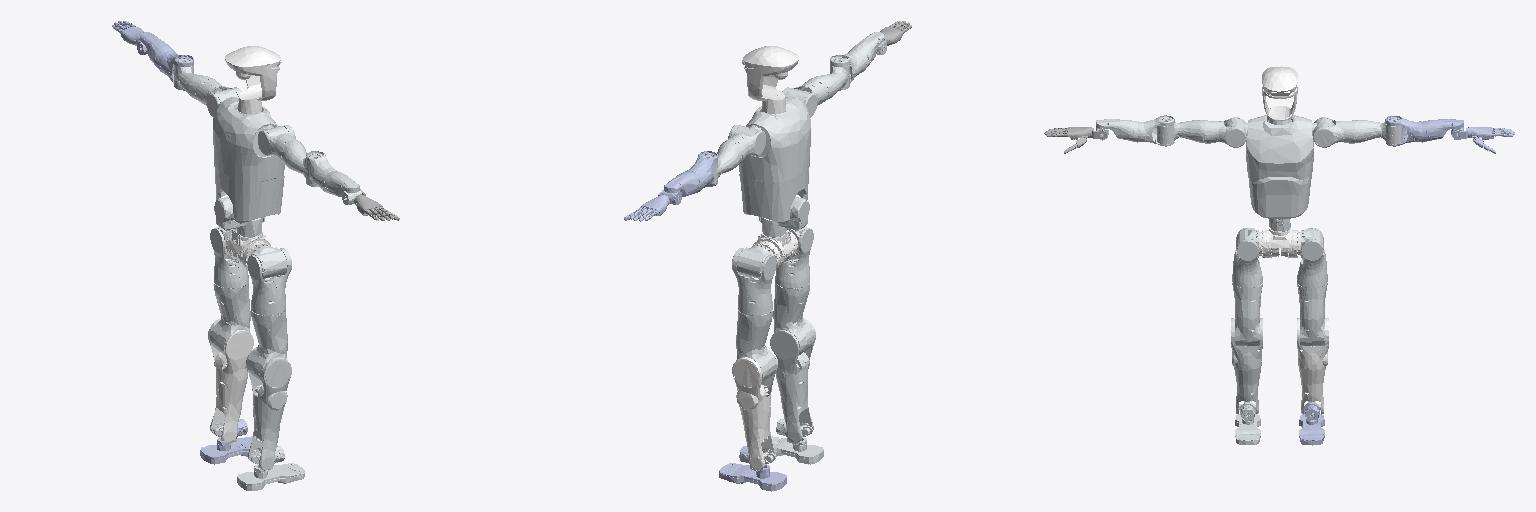
--- Facts derived from the render (not from the file) ---
Views: 3 orthographic renders of the robot side by side, from view 1: azimuth 30°, elevation 25°; view 2: azimuth 150°, elevation 25°; view 3: azimuth 270°, elevation 25°.
Robot: T170-V2.1-A0-URDF-A — 31 links, 30 joints (30 revolute); root link BASE_S; default pose: all joints at 0.
Visible links, largest first — view 1: WAIST_P_S, R_KNEE_P_S, L_KNEE_P_S, NECK_Y_S, R_HIP_Y_S, L_HIP_Y_S, R_HIP_R_S, R_ANKLE_R_S, L_HIP_R_S, L_ANKLE_R_S, WAIST_Y_S, BASE_S (+10 smaller); view 2: WAIST_P_S, L_KNEE_P_S, R_KNEE_P_S, NECK_Y_S, L_HIP_Y_S, R_HIP_Y_S, L_HIP_R_S, L_ANKLE_R_S, R_HIP_R_S, R_ANKLE_R_S, WAIST_Y_S, BASE_S (+10 smaller); view 3: WAIST_P_S, L_KNEE_P_S, R_KNEE_P_S, NECK_Y_S, R_HIP_Y_S, L_HIP_Y_S, L_HIP_R_S, R_HIP_R_S, BASE_S, L_SHOULDER_Y_S, L_ANKLE_R_S, R_ANKLE_R_S (+9 smaller).
Boxes of the visible links, x1,y1,x2,y2 form: WAIST_P_S: (213,97,284,223); R_KNEE_P_S: (246,347,291,470); L_KNEE_P_S: (208,318,253,442); NECK_Y_S: (225,46,281,113); R_HIP_Y_S: (247,310,287,382); L_HIP_Y_S: (210,283,250,355); R_HIP_R_S: (247,248,291,315); R_ANKLE_R_S: (237,445,304,490); L_HIP_R_S: (210,228,248,288); L_ANKLE_R_S: (200,419,252,464); WAIST_Y_S: (214,197,264,237); BASE_S: (226,218,270,268); WAIST_P_S: (739,97,810,223); L_KNEE_P_S: (732,347,777,470); R_KNEE_P_S: (770,318,815,442); NECK_Y_S: (742,46,798,114); L_HIP_Y_S: (736,310,776,382); R_HIP_Y_S: (773,283,813,354); L_HIP_R_S: (732,248,776,315); L_ANKLE_R_S: (719,446,786,491); R_HIP_R_S: (775,228,813,288); R_ANKLE_R_S: (771,419,823,464); WAIST_Y_S: (759,197,809,237); BASE_S: (752,218,797,268); WAIST_P_S: (1246,115,1313,218); L_KNEE_P_S: (1297,318,1328,414); R_KNEE_P_S: (1231,318,1262,414); NECK_Y_S: (1262,66,1297,124); R_HIP_Y_S: (1232,282,1262,346); L_HIP_Y_S: (1297,283,1327,346); L_HIP_R_S: (1297,228,1327,287); R_HIP_R_S: (1232,228,1262,287); BASE_S: (1259,227,1300,257); L_SHOULDER_Y_S: (1355,119,1402,144); L_ANKLE_R_S: (1299,402,1324,445); R_ANKLE_R_S: (1235,402,1260,444).
Bounding box of the posed robot: 0.2739 × 2.02 × 1.72 m (x, y, z).
Meshes: 31 distinct files referenced, 31 mesh visuals loaded (31 binary STL).

URDF robot description (T170-V2.1-A0-URDF-A):
<?xml version="1.0" encoding="utf-8"?>
<!-- This URDF was automatically created by SolidWorks to URDF Exporter! Originally created by Stephen Brawner ([email redacted]) 
     Commit Version: 1.6.0-4-g7f85cfe  Build Version: 1.6.7995.38578
     For more information, please see http://wiki.ros.org/sw_urdf_exporter -->
<robot
  name="T170-V2.1-A0-URDF-A">
  <link
    name="BASE_S">
    <inertial>
              <origin 
                xyz="-5.5e-05 1e-06 -0.047948" 
                rpy="0 0 0" />
              <mass 
                value="6.323163999999999" />
              <inertia
                ixx="0.031584404006"
                ixy="1.46131e-07"
                ixz="1.5716839e-05"
                iyy="0.020264509017000002"
                iyz="-1.81254e-07"
                izz="0.023353483557999998" />
            </inertial>
    <visual>
      <origin
        xyz="0 0 0"
        rpy="0 0 0" />
      <geometry>
        <mesh
          filename="package://T170-V2.1-A0-URDF-A/meshes/BASE_S.STL" />
      </geometry>
      <material
        name="">
        <color
          rgba="1 1 1 1" />
      </material>
    </visual>
    <collision>
      <origin
        xyz="0 0 0"
        rpy="0 0 0" />
      <geometry>
        <mesh
          filename="package://T170-V2.1-A0-URDF-A/meshes/BASE_S.STL" />
      </geometry>
    </collision>
  </link>
  <link
    name="L_HIP_P_S">
    <inertial>
              <origin 
                xyz="0.012891999999999999 0.041366999999999994 1e-06" 
                rpy="0 0 0" />
              <mass 
                value="1.60224" />
              <inertia
                ixx="0.002350403566"
                ixy="-7.038434699999999e-05"
                ixz="1.8192000000000002e-08"
                iyy="0.0026586781120000002"
                iyz="5.7659e-08"
                izz="0.0023079587030000004" />
            </inertial>
    <visual>
      <origin
        xyz="0 0 0"
        rpy="0 0 0" />
      <geometry>
        <mesh
          filename="package://T170-V2.1-A0-URDF-A/meshes/L_HIP_P_S.STL" />
      </geometry>
      <material
        name="">
        <color
          rgba="0.898039215686275 0.917647058823529 0.929411764705882 1" />
      </material>
    </visual>
    <collision>
      <origin
        xyz="0 0 0"
        rpy="0 0 0" />
      <geometry>
        <mesh
          filename="package://T170-V2.1-A0-URDF-A/meshes/L_HIP_P_S.STL" />
      </geometry>
    </collision>
  </link>
  <joint
    name="L_HIP_P"
    type="revolute">
    <origin
      xyz="0 0.0945 -0.067"
      rpy="0 0 0" />
    <parent
      link="BASE_S" />
    <child
      link="L_HIP_P_S" />
    <axis
      xyz="0 1 0" />
    <limit
      lower="-3.14"
      upper="3.14"
      effort="267"
      velocity="5.76" />
  </joint>
  <link
    name="L_HIP_R_S">
    <inertial>
              <origin 
                xyz="-0.052494 0.001116 -0.135556" 
                rpy="0 0 0" />
              <mass 
                value="2.123182" />
              <inertia
                ixx="0.007651730156"
                ixy="-1.0006102999999999e-05"
                ixz="-0.001027271998"
                iyy="0.008350014863"
                iyz="-0.000150416075"
                izz="0.003346951658" />
            </inertial>
    <visual>
      <origin
        xyz="0 0 0"
        rpy="0 0 0" />
      <geometry>
        <mesh
          filename="package://T170-V2.1-A0-URDF-A/meshes/L_HIP_R_S.STL" />
      </geometry>
      <material
        name="">
        <color
          rgba="0.898039215686275 0.917647058823529 0.929411764705882 1" />
      </material>
    </visual>
    <collision>
      <origin
        xyz="0 0 0"
        rpy="0 0 0" />
      <geometry>
        <mesh
          filename="package://T170-V2.1-A0-URDF-A/meshes/L_HIP_R_S.STL" />
      </geometry>
    </collision>
  </link>
  <joint
    name="L_HIP_R"
    type="revolute">
    <origin
      xyz="0.058 0.044 0"
      rpy="0 0 0" />
    <parent
      link="L_HIP_P_S" />
    <child
      link="L_HIP_R_S" />
    <axis
      xyz="1 0 0" />
    <limit
      lower="-0.261"
      upper="1.744"
      effort="63"
      velocity="8.06" />
  </joint>
  <link
    name="L_HIP_Y_S">
    <inertial>
              <origin 
                xyz="0.001701 0.007194 -0.198857" 
                rpy="0 0 0" />
              <mass 
                value="3.313186" />
              <inertia
                ixx="0.017727672841"
                ixy="-6.456893699999999e-05"
                ixz="-0.000408727743"
                iyy="0.018146293801"
                iyz="-0.00033327960600000004"
                izz="0.006599402896" />
            </inertial>
    <visual>
      <origin
        xyz="0 0 0"
        rpy="0 0 0" />
      <geometry>
        <mesh
          filename="package://T170-V2.1-A0-URDF-A/meshes/L_HIP_Y_S.STL" />
      </geometry>
      <material
        name="">
        <color
          rgba="0.898039215686275 0.917647058823529 0.929411764705882 1" />
      </material>
    </visual>
    <collision>
      <origin
        xyz="0 0 0"
        rpy="0 0 0" />
      <geometry>
        <mesh
          filename="package://T170-V2.1-A0-URDF-A/meshes/L_HIP_Y_S.STL" />
      </geometry>
    </collision>
  </link>
  <joint
    name="L_HIP_Y"
    type="revolute">
    <origin
      xyz="-0.058 0 -0.1972"
      rpy="0 0 0" />
    <parent
      link="L_HIP_R_S" />
    <child
      link="L_HIP_Y_S" />
    <axis
      xyz="0 0 -1" />
    <limit
      lower="-3.14"
      upper="3.14"
      effort="121"
      velocity="6.81" />
  </joint>
  <link
    name="L_KNEE_P_S">
    <inertial>
              <origin 
                xyz="-0.003673 -0.046279 -0.131966" 
                rpy="0 0 0" />
              <mass 
                value="2.872258" />
              <inertia
                ixx="0.030549601555"
                ixy="-0.000306279641"
                ixz="-0.00289882498"
                iyy="0.029134022252"
                iyz="-0.000788990124"
                izz="0.00682755525" />
            </inertial>
    <visual>
      <origin
        xyz="0 0 0"
        rpy="0 0 0" />
      <geometry>
        <mesh
          filename="package://T170-V2.1-A0-URDF-A/meshes/L_KNEE_P_S.STL" />
      </geometry>
      <material
        name="">
        <color
          rgba="1 1 1 1" />
      </material>
    </visual>
    <collision>
      <origin
        xyz="0 0 0"
        rpy="0 0 0" />
      <geometry>
        <mesh
          filename="package://T170-V2.1-A0-URDF-A/meshes/L_KNEE_P_S.STL" />
      </geometry>
    </collision>
  </link>
  <joint
    name="L_KNEE_P"
    type="revolute">
    <origin
      xyz="0 0.057 -0.2228"
      rpy="0 0 0" />
    <parent
      link="L_HIP_Y_S" />
    <child
      link="L_KNEE_P_S" />
    <axis
      xyz="0 1 0" />
    <limit
      lower="-0.83"
      upper="2.3"
      effort="267"
      velocity="5.76" />
  </joint>
  <link
    name="L_ANKLE_P_S">
    <inertial>
              <origin 
                xyz="-0.006450999999999999 -0.006279 0.001685" 
                rpy="0 0 0" />
              <mass 
                value="0.16770400000000002" />
              <inertia
                ixx="7.8854471e-05"
                ixy="4.042862e-06"
                ixz="7.594374e-06"
                iyy="7.3833558e-05"
                iyz="-1.0371300000000002e-06"
                izz="0.000117405804" />
            </inertial>
    <visual>
      <origin
        xyz="0 0 0"
        rpy="0 0 0" />
      <geometry>
        <mesh
          filename="package://T170-V2.1-A0-URDF-A/meshes/L_ANKLE_P_S.STL" />
      </geometry>
      <material
        name="">
        <color
          rgba="0.898039215686275 0.917647058823529 0.929411764705882 1" />
      </material>
    </visual>
    <collision>
      <origin
        xyz="0 0 0"
        rpy="0 0 0" />
      <geometry>
        <mesh
          filename="package://T170-V2.1-A0-URDF-A/meshes/L_ANKLE_P_S.STL" />
      </geometry>
    </collision>
  </link>
  <joint
    name="L_ANKLE_P"
    type="revolute">
    <origin
      xyz="-0.032248 -0.058 -0.36859"
      rpy="0 0 0" />
    <parent
      link="L_KNEE_P_S" />
    <child
      link="L_ANKLE_P_S" />
    <axis
      xyz="0 -1 0" />
    <limit
      lower="-1.57"
      upper="0.314"
      effort="63"
      velocity="8.06" />
  </joint>
  <link
    name="L_ANKLE_R_S">
    <inertial>
              <origin 
                xyz="0.019198 1e-06 -0.066833" 
                rpy="0 0 0" />
              <mass 
                value="2.580485" />
              <inertia
                ixx="0.005012162739"
                ixy="1.99135e-07"
                ixz="-7.7163344e-05"
                iyy="0.014812544968"
                iyz="-2.7766e-08"
                izz="0.013178673303999999" />
            </inertial>
    <visual>
      <origin
        xyz="0 0 0"
        rpy="0 0 0" />
      <geometry>
        <mesh
          filename="package://T170-V2.1-A0-URDF-A/meshes/L_ANKLE_R_S.STL" />
      </geometry>
      <material
        name="">
        <color
          rgba="0.792156862745098 0.819607843137255 0.933333333333333 1" />
      </material>
    </visual>
    <collision>
      <origin
        xyz="0 0 0"
        rpy="0 0 0" />
      <geometry>
        <mesh
          filename="package://T170-V2.1-A0-URDF-A/meshes/L_ANKLE_R_S.STL" />
      </geometry>
    </collision>
  </link>
  <joint
    name="L_ANKLE_R"
    type="revolute">
    <origin
      xyz="0.023 0 0"
      rpy="0 0 0" />
    <parent
      link="L_ANKLE_P_S" />
    <child
      link="L_ANKLE_R_S" />
    <axis
      xyz="1 0 0" />
    <limit
      lower="-0.34"
      upper="0.34"
      effort="23"
      velocity="10.16" />
  </joint>
  <link
    name="R_HIP_P_S">
    <inertial>
              <origin 
                xyz="0.012246 -0.041162 1e-06" 
                rpy="0 0 0" />
              <mass 
                value="1.486767" />
              <inertia
                ixx="0.0022559458080000003"
                ixy="6.766130000000001e-05"
                ixz="2.0781299999999998e-07"
                iyy="0.002562349659"
                iyz="-5.7184e-08"
                izz="0.0022107800499999997" />
            </inertial>
    <visual>
      <origin
        xyz="0 0 0"
        rpy="0 0 0" />
      <geometry>
        <mesh
          filename="package://T170-V2.1-A0-URDF-A/meshes/R_HIP_P_S.STL" />
      </geometry>
      <material
        name="">
        <color
          rgba="0.898039215686275 0.917647058823529 0.929411764705882 1" />
      </material>
    </visual>
    <collision>
      <origin
        xyz="0 0 0"
        rpy="0 0 0" />
      <geometry>
        <mesh
          filename="package://T170-V2.1-A0-URDF-A/meshes/R_HIP_P_S.STL" />
      </geometry>
    </collision>
  </link>
  <joint
    name="R_HIP_P"
    type="revolute">
    <origin
      xyz="0 -0.0945 -0.067"
      rpy="0 0 0" />
    <parent
      link="BASE_S" />
    <child
      link="R_HIP_P_S" />
    <axis
      xyz="0 -1 0" />
    <limit
      lower="-3.14"
      upper="3.14"
      effort="267"
      velocity="5.76" />
  </joint>
  <link
    name="R_HIP_R_S">
    <inertial>
              <origin 
                xyz="-0.048002 -0.0020259999999999996 -0.117145" 
                rpy="0 0 0" />
              <mass 
                value="1.169327" />
              <inertia
                ixx="0.006103026520999999"
                ixy="-6.72525e-07"
                ixz="-0.0008121214109999999"
                iyy="0.006751084945"
                iyz="0.000106751489"
                izz="0.002707830301" />
            </inertial>
    <visual>
      <origin
        xyz="0 0 0"
        rpy="0 0 0" />
      <geometry>
        <mesh
          filename="package://T170-V2.1-A0-URDF-A/meshes/R_HIP_R_S.STL" />
      </geometry>
      <material
        name="">
        <color
          rgba="0.898039215686275 0.917647058823529 0.929411764705882 1" />
      </material>
    </visual>
    <collision>
      <origin
        xyz="0 0 0"
        rpy="0 0 0" />
      <geometry>
        <mesh
          filename="package://T170-V2.1-A0-URDF-A/meshes/R_HIP_R_S.STL" />
      </geometry>
    </collision>
  </link>
  <joint
    name="R_HIP_R"
    type="revolute">
    <origin
      xyz="0.058 -0.044 0"
      rpy="0 0 0" />
    <parent
      link="R_HIP_P_S" />
    <child
      link="R_HIP_R_S" />
    <axis
      xyz="1 0 0" />
    <limit
      lower="-1.744"
      upper="0.261"
      effort="63"
      velocity="8.06" />
  </joint>
  <link
    name="R_HIP_Y_S">
    <inertial>
              <origin 
                xyz="0.0018759999999999998 -0.007356 -0.19640000000000002" 
                rpy="0 0 0" />
              <mass 
                value="3.005683" />
              <inertia
                ixx="0.01704320174"
                ixy="6.32323e-05"
                ixz="-0.000395479263"
                iyy="0.017448574874000002"
                iyz="0.00031955861"
                izz="0.006105217643" />
            </inertial>
    <visual>
      <origin
        xyz="0 0 0"
        rpy="0 0 0" />
      <geometry>
        <mesh
          filename="package://T170-V2.1-A0-URDF-A/meshes/R_HIP_Y_S.STL" />
      </geometry>
      <material
        name="">
        <color
          rgba="0.898039215686275 0.917647058823529 0.929411764705882 1" />
      </material>
    </visual>
    <collision>
      <origin
        xyz="0 0 0"
        rpy="0 0 0" />
      <geometry>
        <mesh
          filename="package://T170-V2.1-A0-URDF-A/meshes/R_HIP_Y_S.STL" />
      </geometry>
    </collision>
  </link>
  <joint
    name="R_HIP_Y"
    type="revolute">
    <origin
      xyz="-0.058 0 -0.1972"
      rpy="0 0 0" />
    <parent
      link="R_HIP_R_S" />
    <child
      link="R_HIP_Y_S" />
    <axis
      xyz="0 0 -1" />
    <limit
      lower="-3.14"
      upper="3.14"
      effort="121"
      velocity="6.81" />
  </joint>
  <link
    name="R_KNEE_P_S">
    <inertial>
              <origin 
                xyz="-0.001129 0.044916 -0.124637" 
                rpy="0 0 0" />
              <mass 
                value="2.653417" />
              <inertia
                ixx="0.027141727359"
                ixy="0.000151239842"
                ixz="-0.002091489639"
                iyy="0.025742319535"
                iyz="0.000493533685"
                izz="0.006436295266" />
            </inertial>
    <visual>
      <origin
        xyz="0 0 0"
        rpy="0 0 0" />
      <geometry>
        <mesh
          filename="package://T170-V2.1-A0-URDF-A/meshes/R_KNEE_P_S.STL" />
      </geometry>
      <material
        name="">
        <color
          rgba="0.898039215686275 0.917647058823529 0.929411764705882 1" />
      </material>
    </visual>
    <collision>
      <origin
        xyz="0 0 0"
        rpy="0 0 0" />
      <geometry>
        <mesh
          filename="package://T170-V2.1-A0-URDF-A/meshes/R_KNEE_P_S.STL" />
      </geometry>
    </collision>
  </link>
  <joint
    name="R_KNEE_P"
    type="revolute">
    <origin
      xyz="0 -0.057 -0.2228"
      rpy="0 0 0" />
    <parent
      link="R_HIP_Y_S" />
    <child
      link="R_KNEE_P_S" />
    <axis
      xyz="0 -1 0" />
    <limit
      lower="-2.3"
      upper="0.83"
      effort="267"
      velocity="5.76" />
  </joint>
  <link
    name="R_ANKLE_P_S">
    <inertial>
              <origin 
                xyz="-0.005285 0.0029 0.00138" 
                rpy="0 0 0" />
              <mass 
                value="0.20469900000000002" />
              <inertia
                ixx="0.000106648193"
                ixy="-3.86891e-07"
                ixz="7.923754e-06"
                iyy="7.7879228e-05"
                iyz="8.2406e-08"
                izz="0.00014637474900000002" />
            </inertial>
    <visual>
      <origin
        xyz="0 0 0"
        rpy="0 0 0" />
      <geometry>
        <mesh
          filename="package://T170-V2.1-A0-URDF-A/meshes/R_ANKLE_P_S.STL" />
      </geometry>
      <material
        name="">
        <color
          rgba="0.898039215686275 0.917647058823529 0.929411764705882 1" />
      </material>
    </visual>
    <collision>
      <origin
        xyz="0 0 0"
        rpy="0 0 0" />
      <geometry>
        <mesh
          filename="package://T170-V2.1-A0-URDF-A/meshes/R_ANKLE_P_S.STL" />
      </geometry>
    </collision>
  </link>
  <joint
    name="R_ANKLE_P"
    type="revolute">
    <origin
      xyz="-0.032248 0.058 -0.36859"
      rpy="0 0 0" />
    <parent
      link="R_KNEE_P_S" />
    <child
      link="R_ANKLE_P_S" />
    <axis
      xyz="0 1 0" />
    <limit
      lower="-0.314"
      upper="1.57"
      effort="63"
      velocity="8.06" />
  </joint>
  <link
    name="R_ANKLE_R_S">
    <inertial>
              <origin 
                xyz="0.019038 -1e-06 -0.067145" 
                rpy="0 0 0" />
              <mass 
                value="2.573362" />
              <inertia
                ixx="0.004951495021"
                ixy="-2.06578e-07"
                ixz="-6.3314489e-05"
                iyy="0.014758093406"
                iyz="2.9452e-08"
                izz="0.013181001606000001" />
            </inertial>
    <visual>
      <origin
        xyz="0 0 0"
        rpy="0 0 0" />
      <geometry>
        <mesh
          filename="package://T170-V2.1-A0-URDF-A/meshes/R_ANKLE_R_S.STL" />
      </geometry>
      <material
        name="">
        <color
          rgba="0.898039215686275 0.917647058823529 0.929411764705882 1" />
      </material>
    </visual>
    <collision>
      <origin
        xyz="0 0 0"
        rpy="0 0 0" />
      <geometry>
        <mesh
          filename="package://T170-V2.1-A0-URDF-A/meshes/R_ANKLE_R_S.STL" />
      </geometry>
    </collision>
  </link>
  <joint
    name="R_ANKLE_R"
    type="revolute">
    <origin
      xyz="0.023 0 0"
      rpy="0 0 0" />
    <parent
      link="R_ANKLE_P_S" />
    <child
      link="R_ANKLE_R_S" />
    <axis
      xyz="1 0 0" />
    <limit
      lower="-0.34"
      upper="0.34"
      effort="23"
      velocity="10.16" />
  </joint>
  <link
    name="WAIST_Y_S">
    <inertial>
              <origin 
                xyz="-0.070117 0.0 0.109774" 
                rpy="0 0 0" />
              <mass 
                value="1.49971" />
              <inertia
                ixx="0.002892639151"
                ixy="-6.4603e-08"
                ixz="0.0011632690249999999"
                iyy="0.005042794342"
                iyz="1.3865e-08"
                izz="0.003666403193" />
            </inertial>
    <visual>
      <origin
        xyz="0 0 0"
        rpy="0 0 0" />
      <geometry>
        <mesh
          filename="package://T170-V2.1-A0-URDF-A/meshes/WAIST_Y_S.STL" />
      </geometry>
      <material
        name="">
        <color
          rgba="0.898039215686275 0.917647058823529 0.929411764705882 1" />
      </material>
    </visual>
    <collision>
      <origin
        xyz="0 0 0"
        rpy="0 0 0" />
      <geometry>
        <mesh
          filename="package://T170-V2.1-A0-URDF-A/meshes/WAIST_Y_S.STL" />
      </geometry>
    </collision>
  </link>
  <joint
    name="WAIST_Y"
    type="revolute">
    <origin
      xyz="0 0 0"
      rpy="0 0 0" />
    <parent
      link="BASE_S" />
    <child
      link="WAIST_Y_S" />
    <axis
      xyz="0 0 -1" />
    <limit
      lower="-3.14"
      upper="3.14"
      effort="63"
      velocity="8.06" />
  </joint>
  <link
    name="WAIST_R_S">
    <inertial>
              <origin 
                xyz="0.047638 0.0060609999999999995 0.0" 
                rpy="0 0 0" />
              <mass 
                value="1.3648900000000002" />
              <inertia
                ixx="0.0013838946489999999"
                ixy="-1.4820964e-05"
                ixz="1.2329e-08"
                iyy="0.001586091616"
                iyz="6.57485e-07"
                izz="0.001453676082" />
            </inertial>
    <visual>
      <origin
        xyz="0 0 0"
        rpy="0 0 0" />
      <geometry>
        <mesh
          filename="package://T170-V2.1-A0-URDF-A/meshes/WAIST_R_S.STL" />
      </geometry>
      <material
        name="">
        <color
          rgba="0.898039215686275 0.917647058823529 0.929411764705882 1" />
      </material>
    </visual>
    <collision>
      <origin
        xyz="0 0 0"
        rpy="0 0 0" />
      <geometry>
        <mesh
          filename="package://T170-V2.1-A0-URDF-A/meshes/WAIST_R_S.STL" />
      </geometry>
    </collision>
  </link>
  <joint
    name="WAIST_R"
    type="revolute">
    <origin
      xyz="-0.0495 0 0.127"
      rpy="0 0 0" />
    <parent
      link="WAIST_Y_S" />
    <child
      link="WAIST_R_S" />
    <axis
      xyz="1 0 0" />
    <limit
      lower="-0.61"
      upper="0.61"
      effort="63"
      velocity="8.06" />
  </joint>
  <link
    name="WAIST_P_S">
    <inertial>
              <origin 
                xyz="0.00211 -0.046560000000000004 0.245727" 
                rpy="0 0 0" />
              <mass 
                value="11.080885" />
              <inertia
                ixx="0.11949464686200001"
                ixy="-5.1488261e-05"
                ixz="0.0020396562460000003"
                iyy="0.08538231980699999"
                iyz="2.4585865000000002e-05"
                izz="0.065471635027" />
            </inertial>
    <visual>
      <origin
        xyz="0 0 0"
        rpy="0 0 0" />
      <geometry>
        <mesh
          filename="package://T170-V2.1-A0-URDF-A/meshes/WAIST_P_S.STL" />
      </geometry>
      <material
        name="">
        <color
          rgba="0.898039215686275 0.917647058823529 0.929411764705882 1" />
      </material>
    </visual>
    <collision>
      <origin
        xyz="0 0 0"
        rpy="0 0 0" />
      <geometry>
        <mesh
          filename="package://T170-V2.1-A0-URDF-A/meshes/WAIST_P_S.STL" />
      </geometry>
    </collision>
  </link>
  <joint
    name="WAIST_P"
    type="revolute">
    <origin
      xyz="0.0495 0.0465 0"
      rpy="0 0 0" />
    <parent
      link="WAIST_R_S" />
    <child
      link="WAIST_P_S" />
    <axis
      xyz="0 1 0" />
    <limit
      lower="-0.244"
      upper="0.523"
      effort="63"
      velocity="8.06" />
  </joint>
  <link
    name="L_SHOULDER_P_S">
    <inertial>
              <origin 
                xyz="0.011526 0.059677999999999995 0.0" 
                rpy="0 0 0" />
              <mass 
                value="1.444881" />
              <inertia
                ixx="0.001949609421"
                ixy="-9.1641714e-05"
                ixz="3.02e-09"
                iyy="0.0015971993259999999"
                iyz="2.784e-09"
                izz="0.001979001997" />
            </inertial>
    <visual>
      <origin
        xyz="0 0 0"
        rpy="0 0 0" />
      <geometry>
        <mesh
          filename="package://T170-V2.1-A0-URDF-A/meshes/L_SHOULDER_P_S.STL" />
      </geometry>
      <material
        name="">
        <color
          rgba="0.898039215686275 0.917647058823529 0.929411764705882 1" />
      </material>
    </visual>
    <collision>
      <origin
        xyz="0 0 0"
        rpy="0 0 0" />
      <geometry>
        <mesh
          filename="package://T170-V2.1-A0-URDF-A/meshes/L_SHOULDER_P_S.STL" />
      </geometry>
    </collision>
  </link>
  <joint
    name="L_SHOULDER_P"
    type="revolute">
    <origin
      xyz="0.0005 0.0775 0.336"
      rpy="0 0 0" />
    <parent
      link="WAIST_P_S" />
    <child
      link="L_SHOULDER_P_S" />
    <axis
      xyz="0 1 0" />
    <limit
      lower="-3.14"
      upper="3.14"
      effort="63"
      velocity="8.06" />
  </joint>
  <link
    name="L_SHOULDER_R_S">
    <inertial>
              <origin 
                xyz="-0.050103 0.088587 0.000207" 
                rpy="0 0 0" />
              <mass 
                value="1.014451" />
              <inertia
                ixx="0.002349561045"
                ixy="0.000320579472"
                ixz="1.414894e-06"
                iyy="0.0011315652760000002"
                iyz="1.6244966e-05"
                izz="0.002633113913" />
            </inertial>
    <visual>
      <origin
        xyz="0 0 0"
        rpy="0 0 0" />
      <geometry>
        <mesh
          filename="package://T170-V2.1-A0-URDF-A/meshes/L_SHOULDER_R_S.STL" />
      </geometry>
      <material
        name="">
        <color
          rgba="0.898039215686275 0.917647058823529 0.929411764705882 1" />
      </material>
    </visual>
    <collision>
      <origin
        xyz="0 0 0"
        rpy="0 0 0" />
      <geometry>
        <mesh
          filename="package://T170-V2.1-A0-URDF-A/meshes/L_SHOULDER_R_S.STL" />
      </geometry>
    </collision>
  </link>
  <joint
    name="L_SHOULDER_R"
    type="revolute">
    <origin
      xyz="0.054 0.066 0"
      rpy="0 0 0" />
    <parent
      link="L_SHOULDER_P_S" />
    <child
      link="L_SHOULDER_R_S" />
    <axis
      xyz="1 0 0" />
    <limit
      lower="-1.57"
      upper="1.57"
      effort="63"
      velocity="8.06" />
  </joint>
  <link
    name="L_SHOULDER_Y_S">
    <inertial>
              <origin 
                xyz="-0.002242 0.128183 0.013930999999999999" 
                rpy="0 0 0" />
              <mass 
                value="1.09809" />
              <inertia
                ixx="0.0043556596480000005"
                ixy="-0.00014642065100000003"
                ixz="-2.0792412e-05"
                iyy="0.0010249878449999999"
                iyz="-0.00015515220499999997"
                izz="0.004159562748" />
            </inertial>
    <visual>
      <origin
        xyz="0 0 0"
        rpy="0 0 0" />
      <geometry>
        <mesh
          filename="package://T170-V2.1-A0-URDF-A/meshes/L_SHOULDER_Y_S.STL" />
      </geometry>
      <material
        name="">
        <color
          rgba="0.898039215686275 0.917647058823529 0.929411764705882 1" />
      </material>
    </visual>
    <collision>
      <origin
        xyz="0 0 0"
        rpy="0 0 0" />
      <geometry>
        <mesh
          filename="package://T170-V2.1-A0-URDF-A/meshes/L_SHOULDER_Y_S.STL" />
      </geometry>
    </collision>
  </link>
  <joint
    name="L_SHOULDER_Y"
    type="revolute">
    <origin
      xyz="-0.054 0.1395 0"
      rpy="0 0 0" />
    <parent
      link="L_SHOULDER_R_S" />
    <child
      link="L_SHOULDER_Y_S" />
    <axis
      xyz="0 1 0" />
    <limit
      lower="-3.14"
      upper="3.14"
      effort="42"
      velocity="8.59" />
  </joint>
  <link
    name="L_ELBOW_Y_S">
    <inertial>
              <origin 
                xyz="-0.000772 0.079344 -0.047655" 
                rpy="0 0 0" />
              <mass 
                value="0.71509" />
              <inertia
                ixx="0.0015319294410000002"
                ixy="-2.9833332999999998e-05"
                ixz="-1.601666e-06"
                iyy="0.0008379935259999999"
                iyz="0.00011718606699999999"
                izz="0.001338291607" />
            </inertial>
    <visual>
      <origin
        xyz="0 0 0"
        rpy="0 0 0" />
      <geometry>
        <mesh
          filename="package://T170-V2.1-A0-URDF-A/meshes/L_ELBOW_Y_S.STL" />
      </geometry>
      <material
        name="">
        <color
          rgba="0.792156862745098 0.819607843137255 0.933333333333333 1" />
      </material>
    </visual>
    <collision>
      <origin
        xyz="0 0 0"
        rpy="0 0 0" />
      <geometry>
        <mesh
          filename="package://T170-V2.1-A0-URDF-A/meshes/L_ELBOW_Y_S.STL" />
      </geometry>
    </collision>
  </link>
  <joint
    name="L_ELBOW_Y"
    type="revolute">
    <origin
      xyz="0 0.1605 0.051"
      rpy="0 0 0" />
    <parent
      link="L_SHOULDER_Y_S" />
    <child
      link="L_ELBOW_Y_S" />
    <axis
      xyz="0 0 1" />
    <limit
      lower="-2.4"
      upper="0.87"
      effort="42"
      velocity="8.59" />
  </joint>
  <link
    name="L_WRIST_P_S">
    <inertial>
              <origin 
                xyz="-2.3e-05 0.049845 0.012820999999999999" 
                rpy="0 0 0" />
              <mass 
                value="0.668794" />
              <inertia
                ixx="0.001475487306"
                ixy="2.778478e-06"
                ixz="3.84337e-07"
                iyy="0.000652686375"
                iyz="-0.00035242826400000004"
                izz="0.0012790168840000002" />
            </inertial>
    <visual>
      <origin
        xyz="0 0 0"
        rpy="0 0 0" />
      <geometry>
        <mesh
          filename="package://T170-V2.1-A0-URDF-A/meshes/L_WRIST_P_S.STL" />
      </geometry>
      <material
        name="">
        <color
          rgba="0.792156862745098 0.819607843137255 0.933333333333333 1" />
      </material>
    </visual>
    <collision>
      <origin
        xyz="0 0 0"
        rpy="0 0 0" />
      <geometry>
        <mesh
          filename="package://T170-V2.1-A0-URDF-A/meshes/L_WRIST_P_S.STL" />
      </geometry>
    </collision>
  </link>
  <joint
    name="L_WRIST_P"
    type="revolute">
    <origin
      xyz="0 0.1281 -0.051"
      rpy="0 0 0" />
    <parent
      link="L_ELBOW_Y_S" />
    <child
      link="L_WRIST_P_S" />
    <axis
      xyz="0 1 0" />
    <limit
      lower="-3.14"
      upper="3.14"
      effort="23"
      velocity="10.16" />
  </joint>
  <link
    name="L_WRIST_Y_S">
    <inertial>
              <origin 
                xyz="-0.0018640000000000002 0.000224 -0.040570999999999996" 
                rpy="0 0 0" />
              <mass 
                value="0.323944" />
              <inertia
                ixx="0.000125804672"
                ixy="2.1300000000000002e-08"
                ixz="-5.31188e-07"
                iyy="0.000159342659"
                iyz="-6.065e-09"
                izz="0.00014978237599999999" />
            </inertial>
    <visual>
      <origin
        xyz="0 0 0"
        rpy="0 0 0" />
      <geometry>
        <mesh
          filename="package://T170-V2.1-A0-URDF-A/meshes/L_WRIST_Y_S.STL" />
      </geometry>
      <material
        name="">
        <color
          rgba="0.792156862745098 0.819607843137255 0.933333333333333 1" />
      </material>
    </visual>
    <collision>
      <origin
        xyz="0 0 0"
        rpy="0 0 0" />
      <geometry>
        <mesh
          filename="package://T170-V2.1-A0-URDF-A/meshes/L_WRIST_Y_S.STL" />
      </geometry>
    </collision>
  </link>
  <joint
    name="L_WRIST_Y"
    type="revolute">
    <origin
      xyz="9.0984E-05 0.14468 0.0425"
      rpy="0 0 0" />
    <parent
      link="L_WRIST_P_S" />
    <child
      link="L_WRIST_Y_S" />
    <axis
      xyz="0 0 1" />
    <limit
      lower="-0.69"
      upper="0.69"
      effort="8.3"
      velocity="12.36" />
  </joint>
  <link
    name="L_WRIST_R_S">
    <inertial>
              <origin 
                xyz="-0.011864000000000001 0.124644 -0.0038410000000000002" 
                rpy="0 0 0" />
              <mass 
                value="0.5189400000000001" />
              <inertia
                ixx="0.001203451174"
                ixy="6.4871905e-05"
                ixz="0.00014657205"
                iyy="0.000592121464"
                iyz="-8.233863e-06"
                izz="0.001538886482" />
            </inertial>
    <visual>
      <origin
        xyz="0 0 0"
        rpy="0 0 0" />
      <geometry>
        <mesh
          filename="package://T170-V2.1-A0-URDF-A/meshes/L_WRIST_R_S.STL" />
      </geometry>
      <material
        name="">
        <color
          rgba="0.792156862745098 0.819607843137255 0.933333333333333 1" />
      </material>
    </visual>
    <collision>
      <origin
        xyz="0 0 0"
        rpy="0 0 0" />
      <geometry>
        <mesh
          filename="package://T170-V2.1-A0-URDF-A/meshes/L_WRIST_R_S.STL" />
      </geometry>
    </collision>
  </link>
  <joint
    name="L_WRIST_R"
    type="revolute">
    <origin
      xyz="0.030909 0.00022307 -0.0415"
      rpy="0 0 0" />
    <parent
      link="L_WRIST_Y_S" />
    <child
      link="L_WRIST_R_S" />
    <axis
      xyz="1 0 0" />
    <limit
      lower="-2.35"
      upper="0.348"
      effort="8.3"
      velocity="12.36" />
  </joint>
  <link
    name="R_SHOULDER_P_S">
    <inertial>
              <origin 
                xyz="0.010619 -0.059179 0.0" 
                rpy="0 0 0" />
              <mass 
                value="1.339198" />
              <inertia
                ixx="0.001855661826"
                ixy="8.335758900000001e-05"
                ixz="-5.27e-10"
                iyy="0.001538632935"
                iyz="1.3340000000000001e-09"
                izz="0.0019158810570000001" />
            </inertial>
    <visual>
      <origin
        xyz="0 0 0"
        rpy="0 0 0" />
      <geometry>
        <mesh
          filename="package://T170-V2.1-A0-URDF-A/meshes/R_SHOULDER_P_S.STL" />
      </geometry>
      <material
        name="">
        <color
          rgba="0.898039215686275 0.917647058823529 0.929411764705882 1" />
      </material>
    </visual>
    <collision>
      <origin
        xyz="0 0 0"
        rpy="0 0 0" />
      <geometry>
        <mesh
          filename="package://T170-V2.1-A0-URDF-A/meshes/R_SHOULDER_P_S.STL" />
      </geometry>
    </collision>
  </link>
  <joint
    name="R_SHOULDER_P"
    type="revolute">
    <origin
      xyz="0.0005 -0.1705 0.336"
      rpy="0 0 0" />
    <parent
      link="WAIST_P_S" />
    <child
      link="R_SHOULDER_P_S" />
    <axis
      xyz="0 -1 0" />
    <limit
      lower="-3.14"
      upper="3.14"
      effort="63"
      velocity="8.06" />
  </joint>
  <link
    name="R_SHOULDER_R_S">
    <inertial>
              <origin 
                xyz="-0.046824 -0.072798 0.000381" 
                rpy="0 0 0" />
              <mass 
                value="0.550943" />
              <inertia
                ixx="0.001825626002"
                ixy="-0.000258168274"
                ixz="2.12469e-06"
                iyy="0.000988191811"
                iyz="-1.2926535e-05"
                izz="0.002096252501" />
            </inertial>
    <visual>
      <origin
        xyz="0 0 0"
        rpy="0 0 0" />
      <geometry>
        <mesh
          filename="package://T170-V2.1-A0-URDF-A/meshes/R_SHOULDER_R_S.STL" />
      </geometry>
      <material
        name="">
        <color
          rgba="0.898039215686275 0.917647058823529 0.929411764705882 1" />
      </material>
    </visual>
    <collision>
      <origin
        xyz="0 0 0"
        rpy="0 0 0" />
      <geometry>
        <mesh
          filename="package://T170-V2.1-A0-URDF-A/meshes/R_SHOULDER_R_S.STL" />
      </geometry>
    </collision>
  </link>
  <joint
    name="R_SHOULDER_R"
    type="revolute">
    <origin
      xyz="0.054 -0.066 0"
      rpy="0 0 0" />
    <parent
      link="R_SHOULDER_P_S" />
    <child
      link="R_SHOULDER_R_S" />
    <axis
      xyz="1 0 0" />
    <limit
      lower="-1.57"
      upper="1.57"
      effort="63"
      velocity="8.06" />
  </joint>
  <link
    name="R_SHOULDER_Y_S">
    <inertial>
              <origin 
                xyz="-0.003882 -0.10457999999999999 0.010336" 
                rpy="0 0 0" />
              <mass 
                value="0.634542" />
              <inertia
                ixx="0.003274593813"
                ixy="8.8358039e-05"
                ixz="-1.1983803e-05"
                iyy="0.000778021048"
                iyz="2.7577382000000002e-05"
                izz="0.0031870806579999997" />
            </inertial>
    <visual>
      <origin
        xyz="0 0 0"
        rpy="0 0 0" />
      <geometry>
        <mesh
          filename="package://T170-V2.1-A0-URDF-A/meshes/R_SHOULDER_Y_S.STL" />
      </geometry>
      <material
        name="">
        <color
          rgba="0.898039215686275 0.917647058823529 0.929411764705882 1" />
      </material>
    </visual>
    <collision>
      <origin
        xyz="0 0 0"
        rpy="0 0 0" />
      <geometry>
        <mesh
          filename="package://T170-V2.1-A0-URDF-A/meshes/R_SHOULDER_Y_S.STL" />
      </geometry>
    </collision>
  </link>
  <joint
    name="R_SHOULDER_Y"
    type="revolute">
    <origin
      xyz="-0.054 -0.1395 0"
      rpy="0 0 0" />
    <parent
      link="R_SHOULDER_R_S" />
    <child
      link="R_SHOULDER_Y_S" />
    <axis
      xyz="0 -1 0" />
    <limit
      lower="-3.14"
      upper="3.14"
      effort="42"
      velocity="8.59" />
  </joint>
  <link
    name="R_ELBOW_Y_S">
    <inertial>
              <origin 
                xyz="-0.0007840000000000001 -0.079077 -0.047591999999999995" 
                rpy="0 0 0" />
              <mass 
                value="0.7024729999999999" />
              <inertia
                ixx="0.001522319084"
                ixy="2.9623432e-05"
                ixz="-1.593911e-06"
                iyy="0.0008321023499999999"
                iyz="-0.00011659063099999999"
                izz="0.001328714764" />
            </inertial>
    <visual>
      <origin
        xyz="0 0 0"
        rpy="0 0 0" />
      <geometry>
        <mesh
          filename="package://T170-V2.1-A0-URDF-A/meshes/R_ELBOW_Y_S.STL" />
      </geometry>
      <material
        name="">
        <color
          rgba="0.898039215686275 0.917647058823529 0.929411764705882 1" />
      </material>
    </visual>
    <collision>
      <origin
        xyz="0 0 0"
        rpy="0 0 0" />
      <geometry>
        <mesh
          filename="package://T170-V2.1-A0-URDF-A/meshes/R_ELBOW_Y_S.STL" />
      </geometry>
    </collision>
  </link>
  <joint
    name="R_ELBOW_Y"
    type="revolute">
    <origin
      xyz="0 -0.1605 0.051"
      rpy="0 0 0" />
    <parent
      link="R_SHOULDER_Y_S" />
    <child
      link="R_ELBOW_Y_S" />
    <axis
      xyz="0 0 1" />
    <limit
      lower="-0.87"
      upper="2.4"
      effort="42"
      velocity="8.59" />
  </joint>
  <link
    name="R_WRIST_P_S">
    <inertial>
              <origin 
                xyz="0.0 -0.051437 0.014735" 
                rpy="0 0 0" />
              <mass 
                value="0.810141" />
              <inertia
                ixx="0.001888406871"
                ixy="-3.080519e-06"
                ixz="2.88971e-07"
                iyy="0.000742220203"
                iyz="0.000419750419"
                izz="0.001686834643" />
            </inertial>
    <visual>
      <origin
        xyz="0 0 0"
        rpy="0 0 0" />
      <geometry>
        <mesh
          filename="package://T170-V2.1-A0-URDF-A/meshes/R_WRIST_P_S.STL" />
      </geometry>
      <material
        name="">
        <color
          rgba="0.898039215686275 0.917647058823529 0.929411764705882 1" />
      </material>
    </visual>
    <collision>
      <origin
        xyz="0 0 0"
        rpy="0 0 0" />
      <geometry>
        <mesh
          filename="package://T170-V2.1-A0-URDF-A/meshes/R_WRIST_P_S.STL" />
      </geometry>
    </collision>
  </link>
  <joint
    name="R_WRIST_P"
    type="revolute">
    <origin
      xyz="0 -0.1281 -0.051"
      rpy="0 0 0" />
    <parent
      link="R_ELBOW_Y_S" />
    <child
      link="R_WRIST_P_S" />
    <axis
      xyz="0 -1 0" />
    <limit
      lower="-3.14"
      upper="3.14"
      effort="23"
      velocity="10.16" />
  </joint>
  <link
    name="R_WRIST_Y_S">
    <inertial>
              <origin 
                xyz="-0.000915 -0.000224 -0.039334" 
                rpy="0 0 0" />
              <mass 
                value="0.390534" />
              <inertia
                ixx="0.000170639768"
                ixy="-6.0248e-08"
                ixz="-6.897480000000001e-07"
                iyy="0.000207261126"
                iyz="1.6529e-08"
                izz="0.000181442906" />
            </inertial>
    <visual>
      <origin
        xyz="0 0 0"
        rpy="0 0 0" />
      <geometry>
        <mesh
          filename="package://T170-V2.1-A0-URDF-A/meshes/R_WRIST_Y_S.STL" />
      </geometry>
      <material
        name="">
        <color
          rgba="0.898039215686275 0.917647058823529 0.929411764705882 1" />
      </material>
    </visual>
    <collision>
      <origin
        xyz="0 0 0"
        rpy="0 0 0" />
      <geometry>
        <mesh
          filename="package://T170-V2.1-A0-URDF-A/meshes/R_WRIST_Y_S.STL" />
      </geometry>
    </collision>
  </link>
  <joint
    name="R_WRIST_Y"
    type="revolute">
    <origin
      xyz="9.0984E-05 -0.14468 0.0425"
      rpy="0 0 0" />
    <parent
      link="R_WRIST_P_S" />
    <child
      link="R_WRIST_Y_S" />
    <axis
      xyz="0 0 1" />
    <limit
      lower="-0.69"
      upper="0.69"
      effort="8.3"
      velocity="12.36" />
  </joint>
  <link
    name="R_WRIST_R_S">
    <inertial>
              <origin 
                xyz="-0.011723 -0.118518 -0.0027440000000000003" 
                rpy="0 0 0" />
              <mass 
                value="0.553221" />
              <inertia
                ixx="0.001538629013"
                ixy="-8.0720572e-05"
                ixz="0.000152285311"
                iyy="0.0006011281409999999"
                iyz="6.235099e-06"
                izz="0.001871429419" />
            </inertial>
    <visual>
      <origin
        xyz="0 0 0"
        rpy="0 0 0" />
      <geometry>
        <mesh
          filename="package://T170-V2.1-A0-URDF-A/meshes/R_WRIST_R_S.STL" />
      </geometry>
      <material
        name="">
        <color
          rgba="0.752941176470588 0.752941176470588 0.752941176470588 1" />
      </material>
    </visual>
    <collision>
      <origin
        xyz="0 0 0"
        rpy="0 0 0" />
      <geometry>
        <mesh
          filename="package://T170-V2.1-A0-URDF-A/meshes/R_WRIST_R_S.STL" />
      </geometry>
    </collision>
  </link>
  <joint
    name="R_WRIST_R"
    type="revolute">
    <origin
      xyz="0.030909 -0.00022307 -0.0415"
      rpy="0 0 0" />
    <parent
      link="R_WRIST_Y_S" />
    <child
      link="R_WRIST_R_S" />
    <axis
      xyz="1 0 0" />
    <limit
      lower="-0.348"
      upper="2.35"
      effort="8.3"
      velocity="12.36" />
  </joint>
  <link
    name="NECK_Y_S">
    <inertial>
              <origin 
                xyz="0.0261 0.00014000000000000001 0.18196700000000002" 
                rpy="0 0 0" />
              <mass 
                value="2.50061" />
              <inertia
                ixx="0.014941218582000001"
                ixy="-2.5312678e-05"
                ixz="-8.0248209e-05"
                iyy="0.017071265236000003"
                iyz="-8.818254e-06"
                izz="0.009101680967" />
            </inertial>
    <visual>
      <origin
        xyz="0 0 0"
        rpy="0 0 0" />
      <geometry>
        <mesh
          filename="package://T170-V2.1-A0-URDF-A/meshes/NECK_Y_S.STL" />
      </geometry>
      <material
        name="">
        <color
          rgba="1 1 1 1" />
      </material>
    </visual>
    <collision>
      <origin
        xyz="0 0 0"
        rpy="0 0 0" />
      <geometry>
        <mesh
          filename="package://T170-V2.1-A0-URDF-A/meshes/NECK_Y_S.STL" />
      </geometry>
    </collision>
  </link>
  <joint
    name="NECK_Y"
    type="revolute">
    <origin
      xyz="0.0005 -0.0465 0.365"
      rpy="0 0 0" />
    <parent
      link="WAIST_P_S" />
    <child
      link="NECK_Y_S" />
    <axis
      xyz="0 0 1" />
    <limit
      lower="-3.14"
      upper="3.14"
      effort="8.3"
      velocity="12.36" />
  </joint>

  <mujoco>
    <compiler
    meshdir="../meshes/"
    balanceinertia="true"
    discardvisual="false" />
  </mujoco>
  
</robot>
